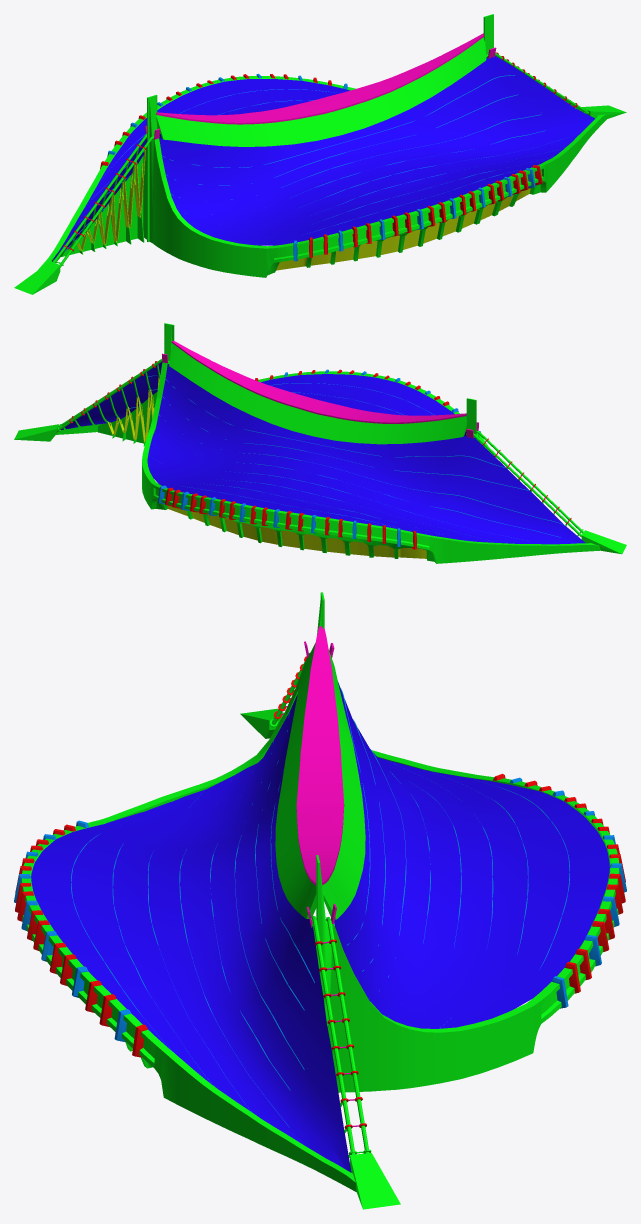
The model's file is SM_Stadium.FBX.
The picture shows the model from 3 angles, top to bottom: view 1: azimuth 30°, elevation 25°; view 2: azimuth 150°, elevation 25°; view 3: azimuth 270°, elevation 25°; orthographic projection. The views are drawn at different scales.
Parts seen in each view (by area): view 1: polySurface1400; view 2: polySurface1400; view 3: polySurface1400.
Boxes of the visible parts, bbox=[...] form: polySurface1400: bbox=[14, 14, 626, 294]; polySurface1400: bbox=[14, 323, 626, 563]; polySurface1400: bbox=[14, 592, 626, 1209].
Bounding box in the file's own units: 403 × 87.18 × 209.
